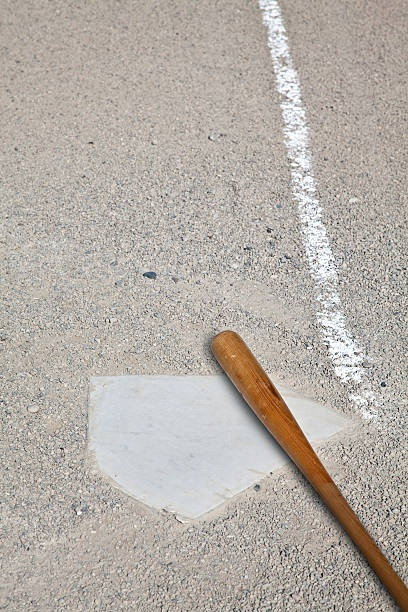bita: (212, 331, 408, 600)
